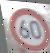Speed Limit -60-: (5, 5, 50, 52)
